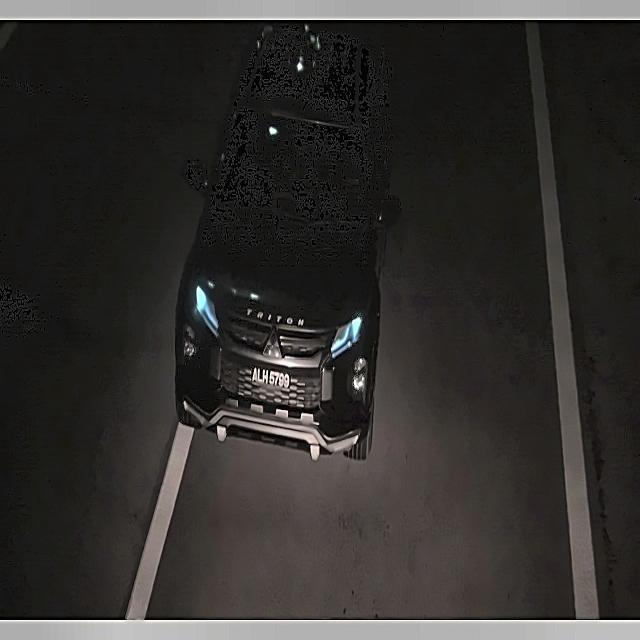car: (246, 355, 297, 397)
